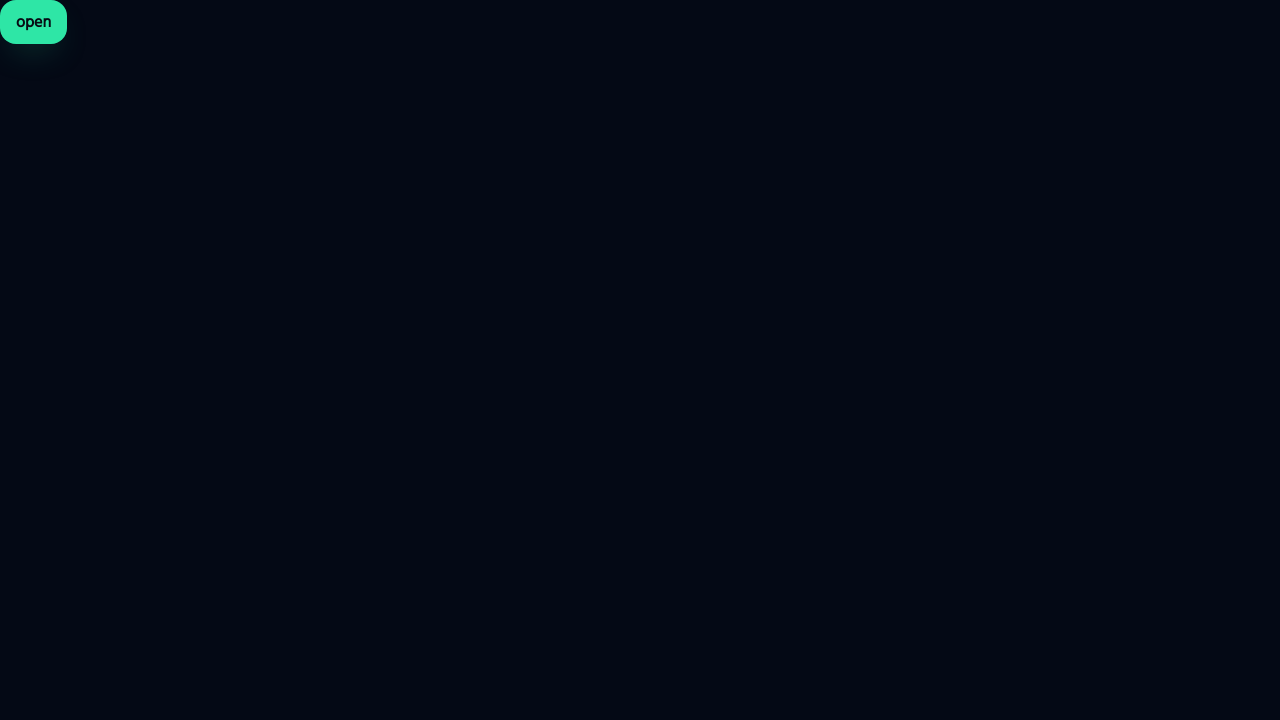
Test: CitationSheet › FR-70 shows only the verified quote when the section cannot be fetched
Click the button "open". click: (34, 22)
box: [0,0,67,44]
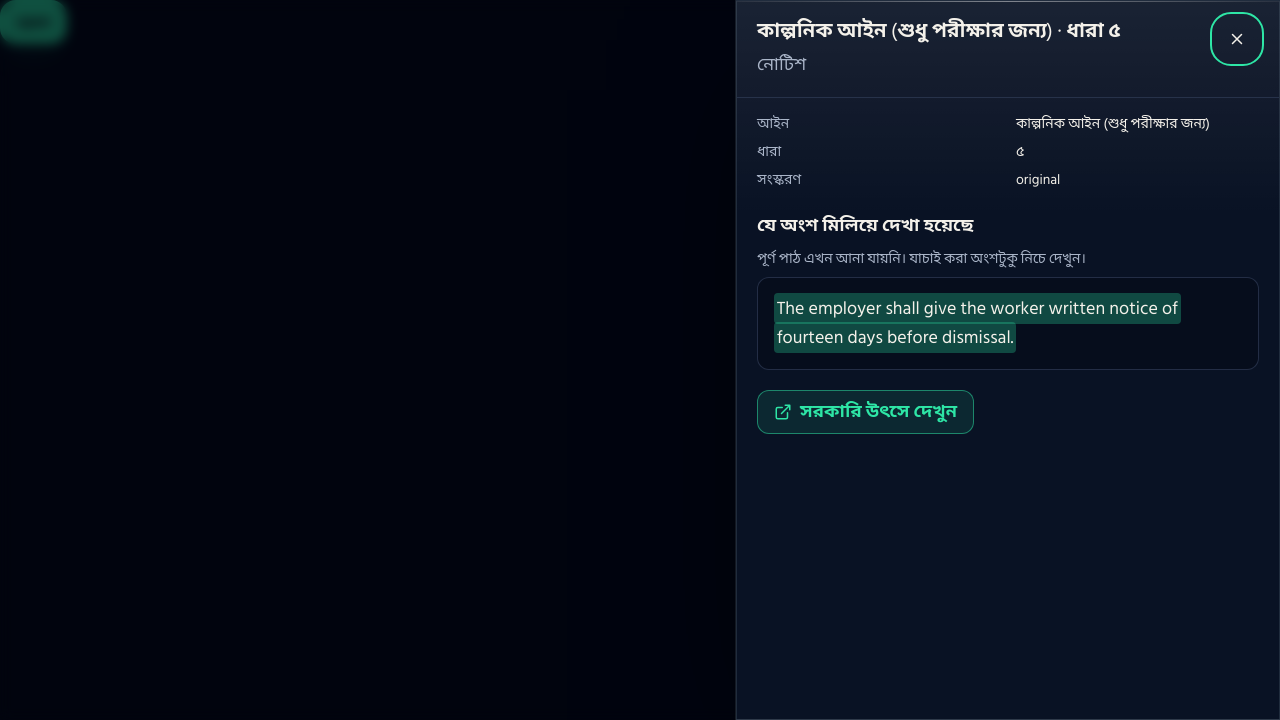
Expected: the text "পূর্ণ পাঠ এখন আনা যায়নি। যাচাই করা অংশটুকু নিচে দেখুন।" is shown, [757,247,1086,270]
